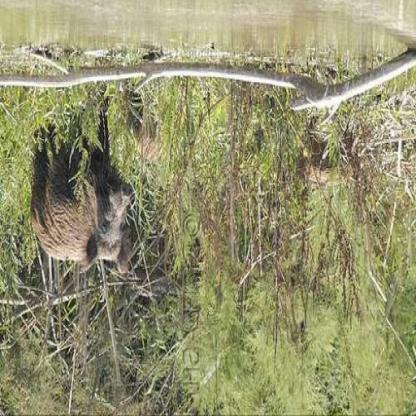boar: (17, 63, 193, 285)
